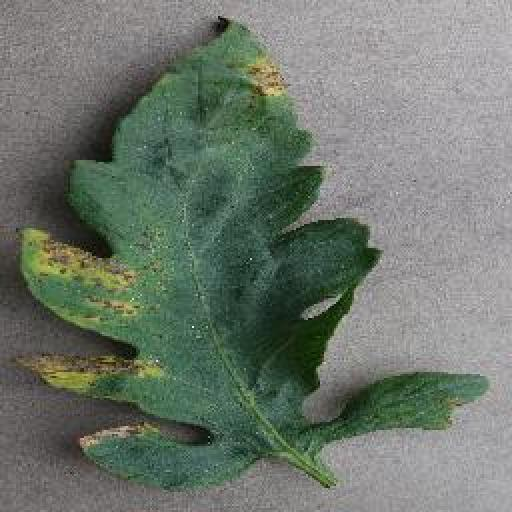Bacterial Spot: (12, 9, 491, 496)
